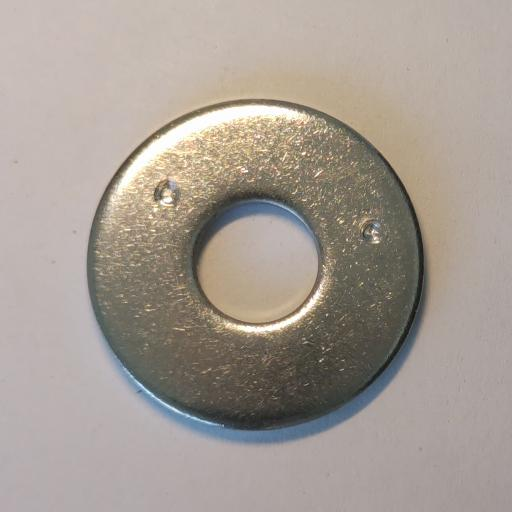circular_cavity: (154, 179, 179, 206), (361, 220, 387, 244)
